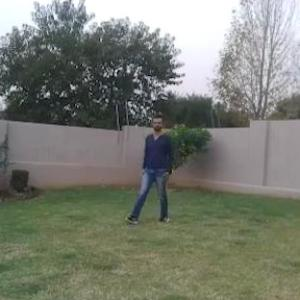follow: (140, 111, 172, 219)
